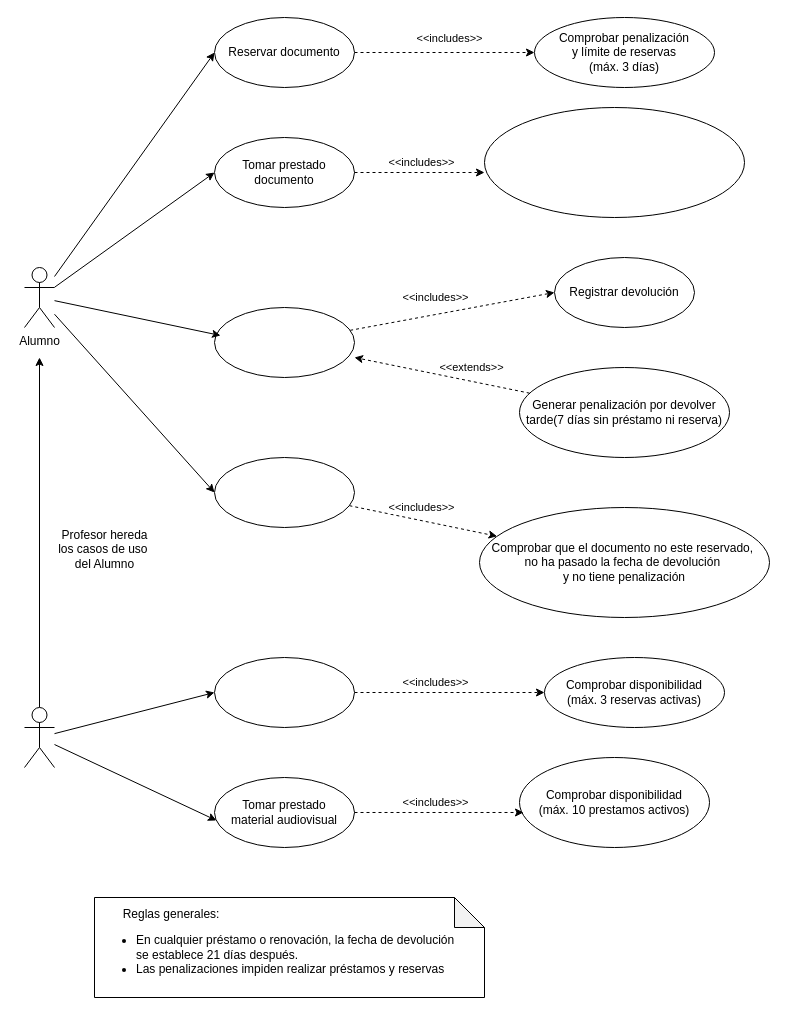
This 787x1015 diagram has some shape labels left out. Each missing label, with the box of its shape:
Comprobar disponibilidad y que no tiene penalización (máx. 5 prestamos activo): (484, 106, 744, 218)
Devolver documento: (214, 306, 354, 378)
Profesor: (24, 706, 54, 768)
Renovar prestamo: (214, 456, 354, 528)
Reservar material audiovisual: (214, 656, 354, 728)
